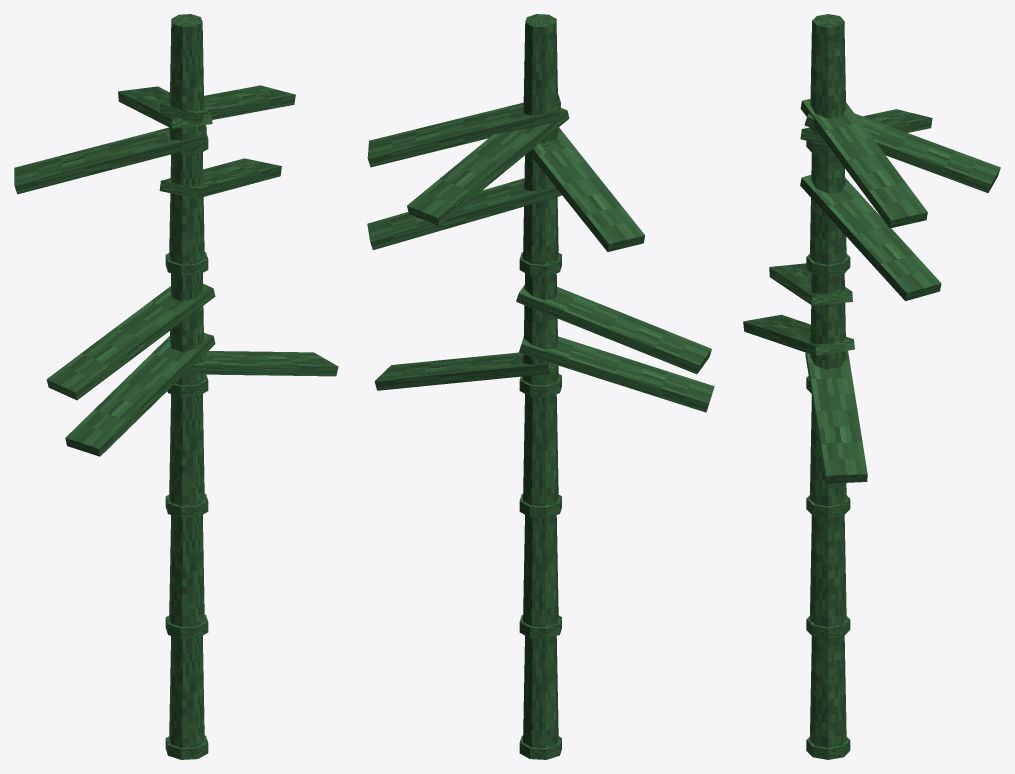
File: bamboo_36.glb
The picture shows the model from 3 angles, left to right: view 1: azimuth 30°, elevation 25°; view 2: azimuth 150°, elevation 25°; view 3: azimuth 270°, elevation 25°; orthographic projection.
Visible parts, largest first — view 1: Leaf, Leaf.002, Leaf.006, Stem, Stem.001, Stem.002, Stem.005, Stem.004, Leaf.003, Leaf.001, Leaf.004, Stem.003 (+5 smaller); view 2: Leaf, Leaf.006, Leaf.005, Leaf.002, Leaf.001, Leaf.004, Leaf.003, Stem.001, Stem.002, Stem, Stem.005, Stem.004 (+5 smaller); view 3: Leaf.004, Leaf.001, Leaf.003, Leaf.005, Stem, Stem.001, Stem.005, Stem.004, Stem.003, Leaf.002, Leaf, Stem.002 (+5 smaller).
Part boxes in pixels (x1,y1,x2,y2): Leaf: (46,283,215,400); Leaf.002: (65,333,215,456); Leaf.006: (14,125,206,194); Stem: (169,635,204,747); Stem.001: (169,515,204,626); Stem.002: (169,394,204,506); Stem.005: (169,14,204,140); Stem.004: (169,152,204,264); Leaf.003: (185,351,338,376); Leaf.001: (159,85,295,123); Leaf.004: (159,158,281,198); Stem.003: (170,273,204,385); Leaf: (516,285,711,374); Leaf.006: (528,127,644,251); Leaf.005: (407,107,569,225); Leaf.002: (518,336,714,412); Leaf.001: (367,94,560,167); Leaf.004: (367,178,561,249); Leaf.003: (374,352,558,390); Stem.001: (523,515,558,626); Stem.002: (523,394,558,506); Stem: (523,635,558,747); Stem.005: (523,14,558,143); Stem.004: (523,153,558,264); Leaf.004: (800,175,941,300); Leaf.001: (800,99,927,228); Leaf.003: (805,350,867,483); Leaf.005: (804,113,1000,192); Stem: (810,636,846,747); Stem.001: (810,515,846,627); Stem.005: (810,14,846,135); Stem.004: (810,153,846,264); Stem.003: (810,274,846,369); Leaf.002: (743,314,854,355); Leaf: (769,263,852,305); Stem.002: (810,395,846,506).
Bounding box in the file's own units: 1.5 × 3.48 × 1.11.
1 material, 1 textured.
